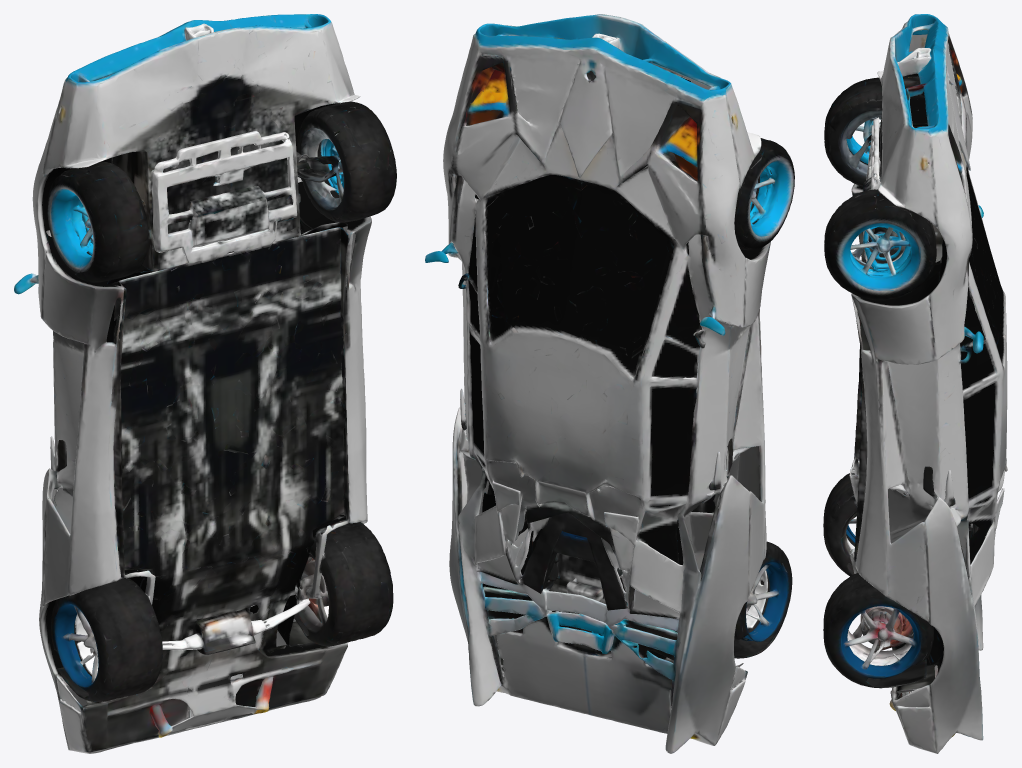
The model's file is phantom.glb.
3 views of the same model, side by side, from view 1: azimuth 30°, elevation 25°; view 2: azimuth 150°, elevation 25°; view 3: azimuth 270°, elevation 25° (orthographic). The views are drawn at different scales.
Visible parts, largest first — view 1: body; view 2: body; view 3: body.
Part boxes in pixels (left/top/right/bottom): body: left=14, top=14, right=396, bottom=753; body: left=425, top=14, right=794, bottom=753; body: left=823, top=14, right=1007, bottom=753.
Bounding box in the file's own units: 0.5416 × 1.18 × 0.3015.
Materials: 1 (1 with a texture image).
